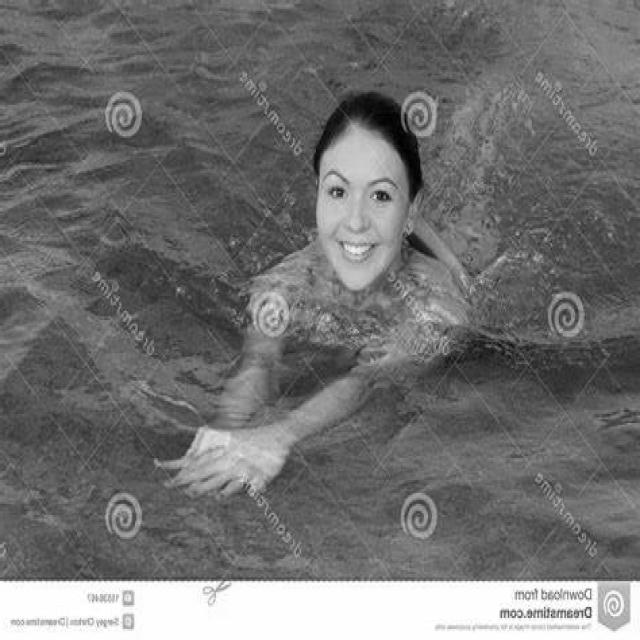swimming: (125, 50, 580, 511)
